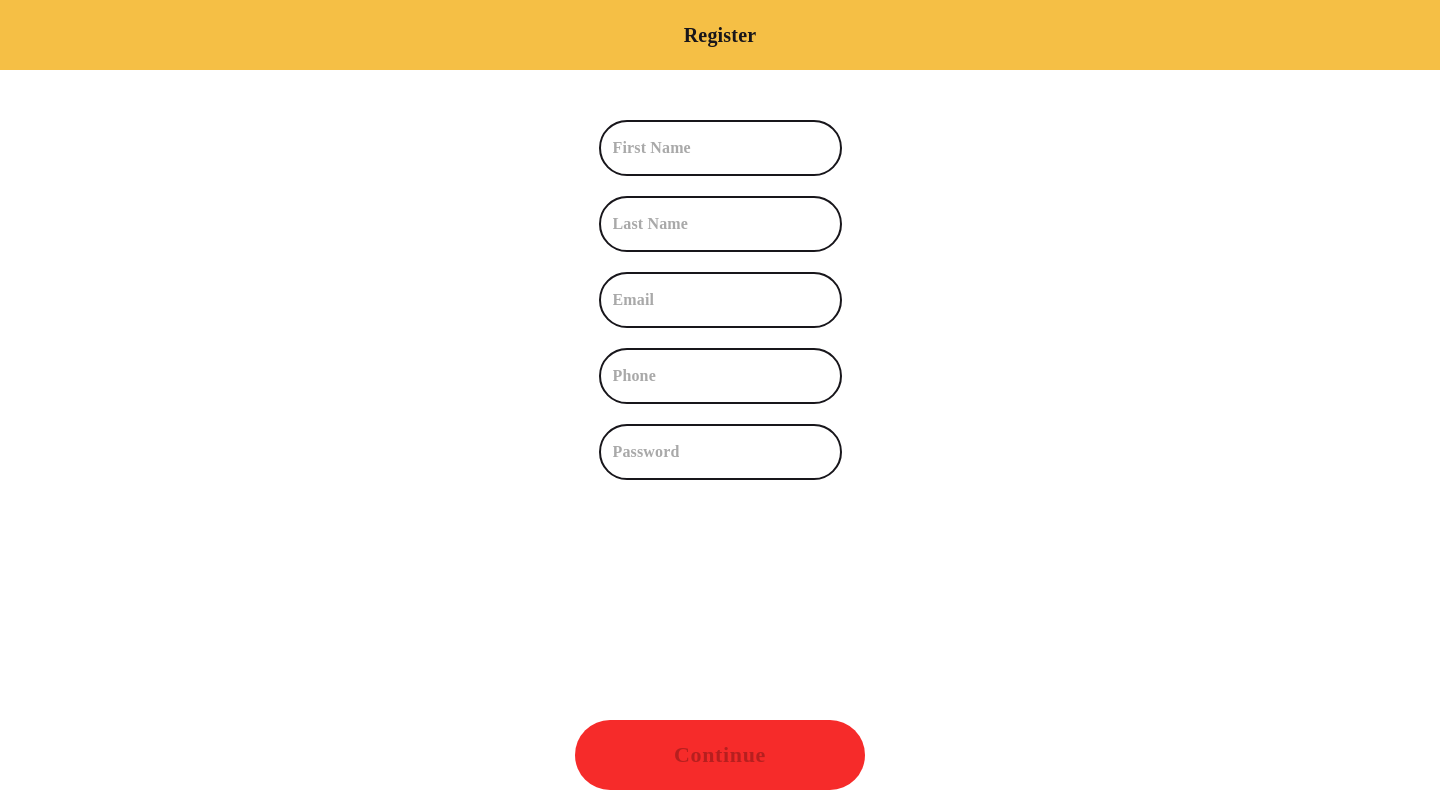
Scenario: new user registration › phone number short of 10 digits
Type "96325863" into the number field with test id "phoneNumberField" at (728, 376), box x1=614 y1=348 x2=842 y2=404
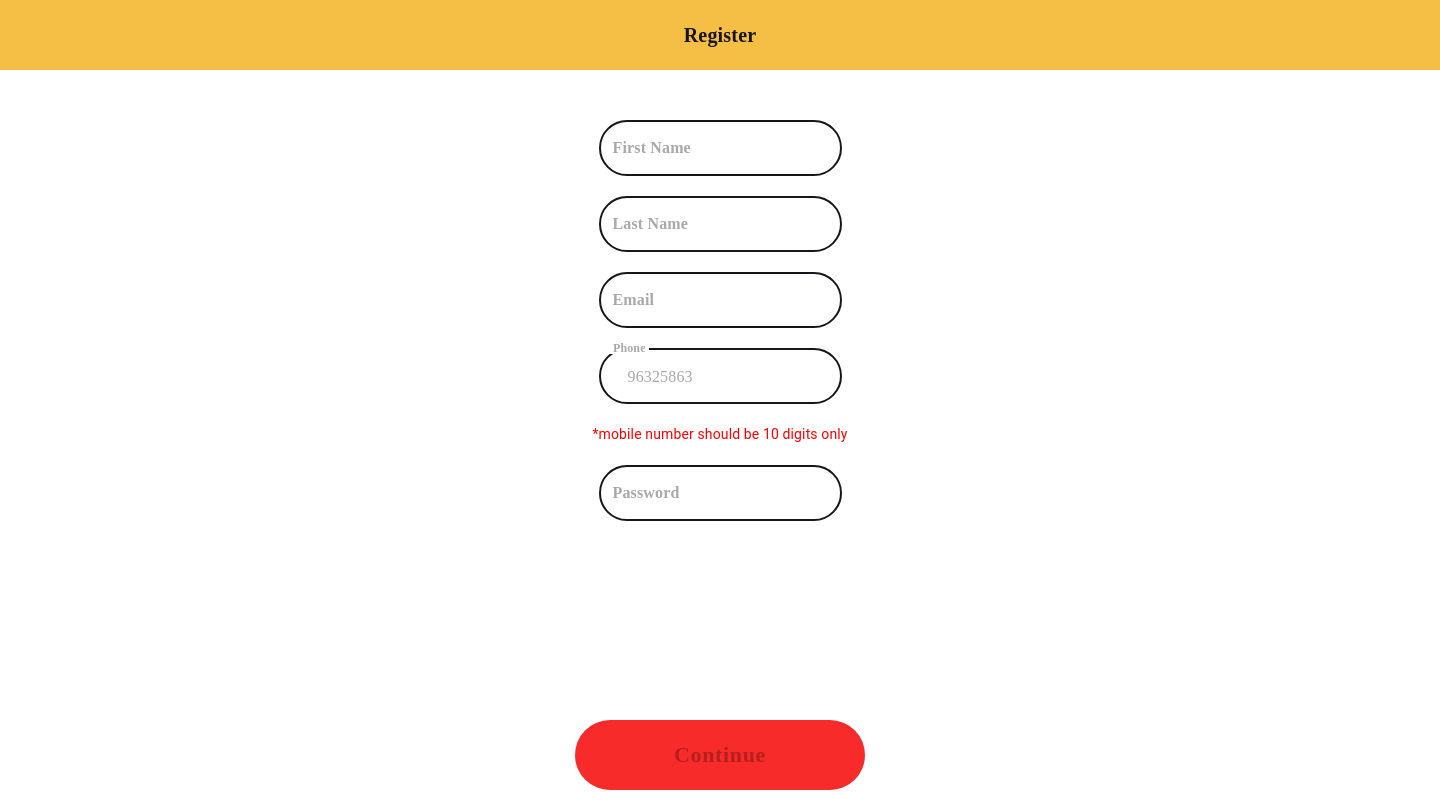
Expected: the text "*mobile number should be 10 digits only" is shown, x1=592 y1=424 x2=848 y2=445
